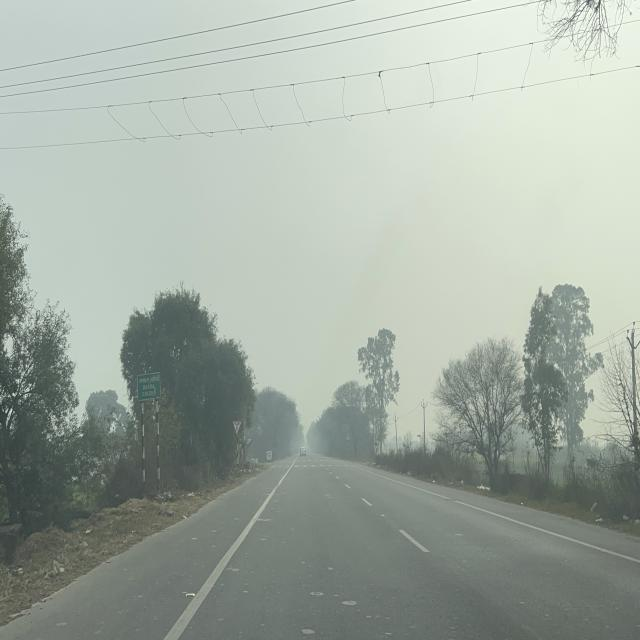GENERAL: (135, 372, 162, 401)
